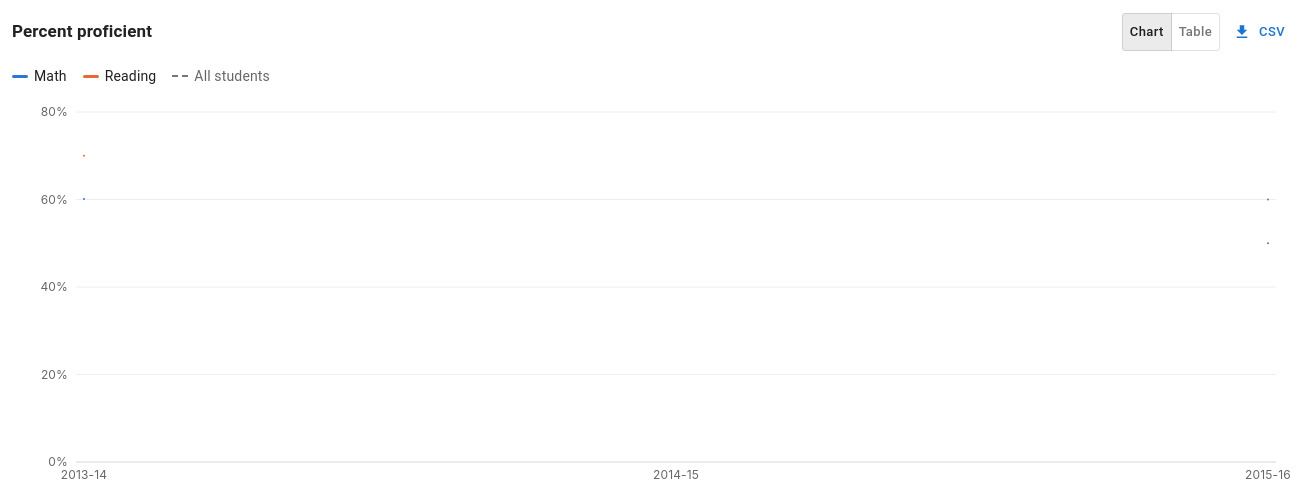
Test: TrendChart › shows school years and a comparison in the table view
Click the button "Table".
click(1195, 32)  # box [1171, 13, 1220, 51]
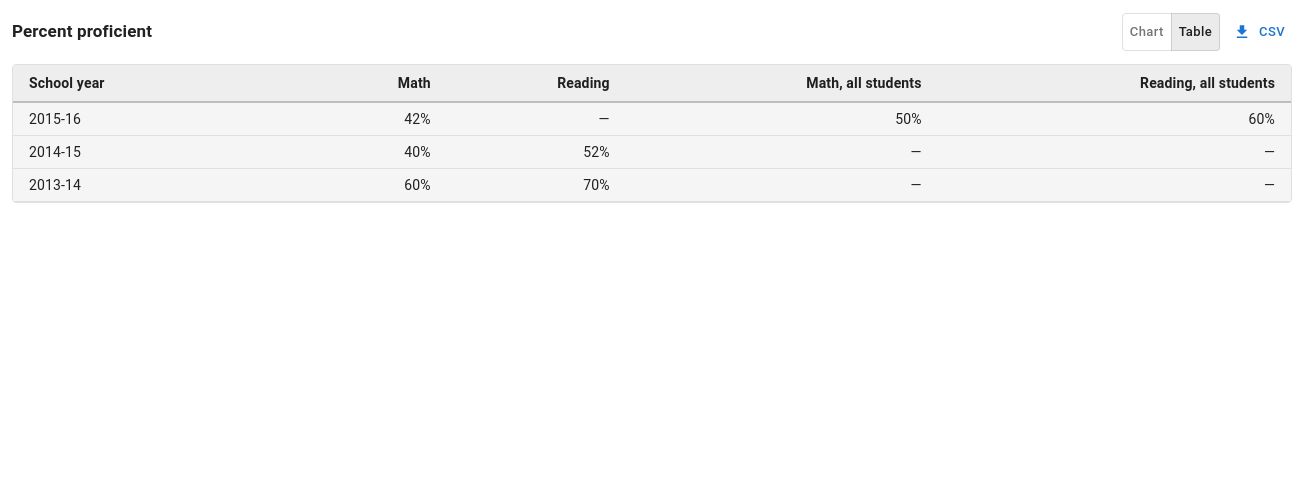
Now the column heading "Math, all students" is shown, box [626, 65, 938, 102]
